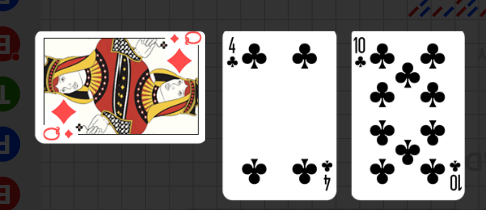10C: (447, 157, 462, 192)
4C: (225, 35, 240, 70)
9D: (41, 126, 75, 142)
